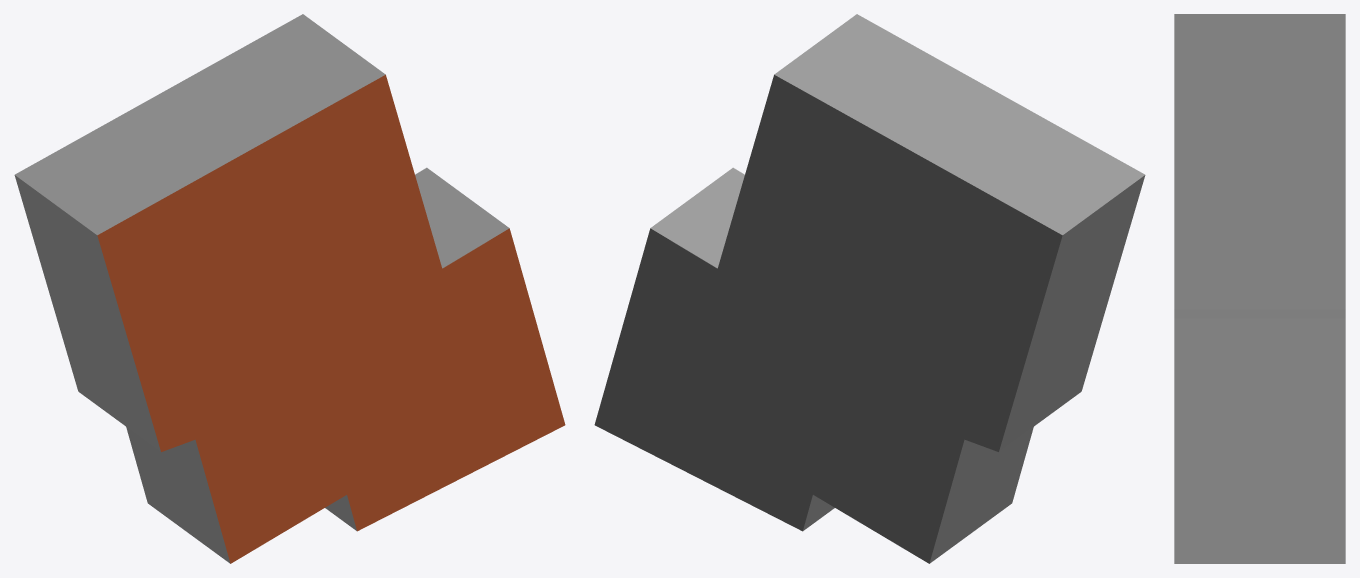
File: construction_3002_assumed_A_Casa_h6m.obj
The picture shows the model from 3 angles, left to right: view 1: azimuth 30°, elevation 25°; view 2: azimuth 150°, elevation 25°; view 3: azimuth 270°, elevation 25°; orthographic projection. The views are drawn at different scales.
Visible parts, largest first — view 1: construction_3002_assumed_A_Casa; view 2: construction_3002_assumed_A_Casa; view 3: construction_3002_assumed_A_Casa.
Part boxes in pixels (x1,y1,x2,y2): construction_3002_assumed_A_Casa: [14, 14, 565, 563]; construction_3002_assumed_A_Casa: [594, 14, 1145, 563]; construction_3002_assumed_A_Casa: [1174, 14, 1345, 563].
Size of the model in its own units: 19.58 by 18.04 by 6.
